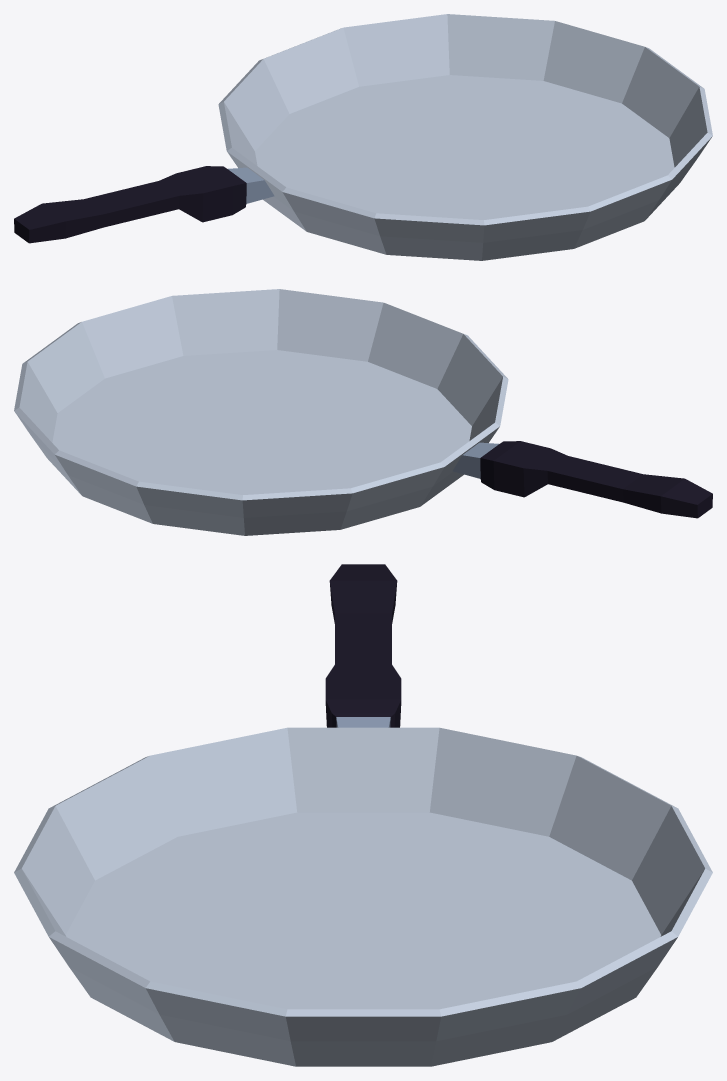
File: frypan.glb
3 renders of one model, top to bottom at view 1: azimuth 30°, elevation 25°; view 2: azimuth 150°, elevation 25°; view 3: azimuth 270°, elevation 25°, orthographic. The views are drawn at different scales.
Visible parts, largest first — view 1: Circle; view 2: Circle; view 3: Circle.
Boxes of the visible parts, x1=… form: Circle: x1=14, y1=14, x2=712, y2=260; Circle: x1=14, y1=289, x2=712, y2=535; Circle: x1=14, y1=564, x2=712, y2=1066.
Bounding box in the file's own units: 0.6088 × 0.0512 × 0.4025.
Materials: 1 (1 with a texture image).
